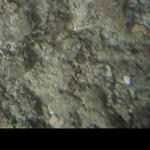dead: (1, 28, 127, 104)
